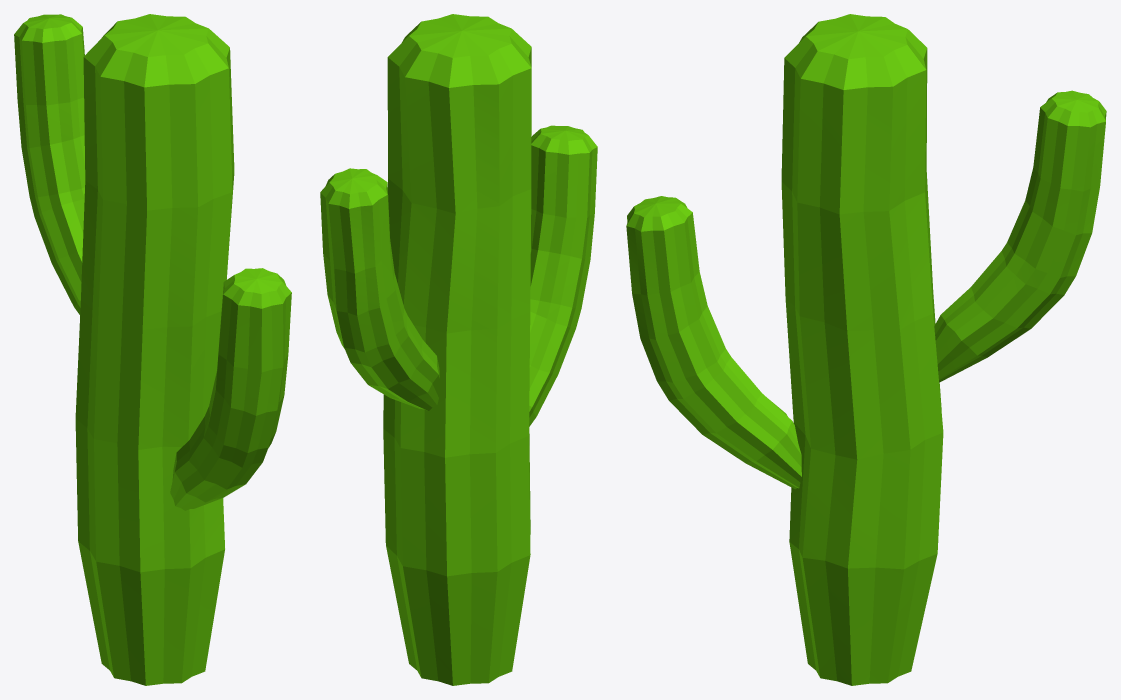
The model's file is Cactus A.obj.
3 renders of one model, left to right at view 1: azimuth 30°, elevation 25°; view 2: azimuth 150°, elevation 25°; view 3: azimuth 270°, elevation 25°, orthographic.
Visible parts, largest first — view 1: Cactus_A; view 2: Cactus_A; view 3: Cactus_A.
Boxes of the visible parts, <box> form: Cactus_A: <box>14,14,291,685</box>; Cactus_A: <box>320,14,597,685</box>; Cactus_A: <box>626,14,1106,685</box>.
Bounding box in the file's own units: 0.4479 × 2.04 × 1.41.
